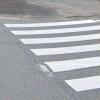crosswalks: (13, 20, 98, 100)
